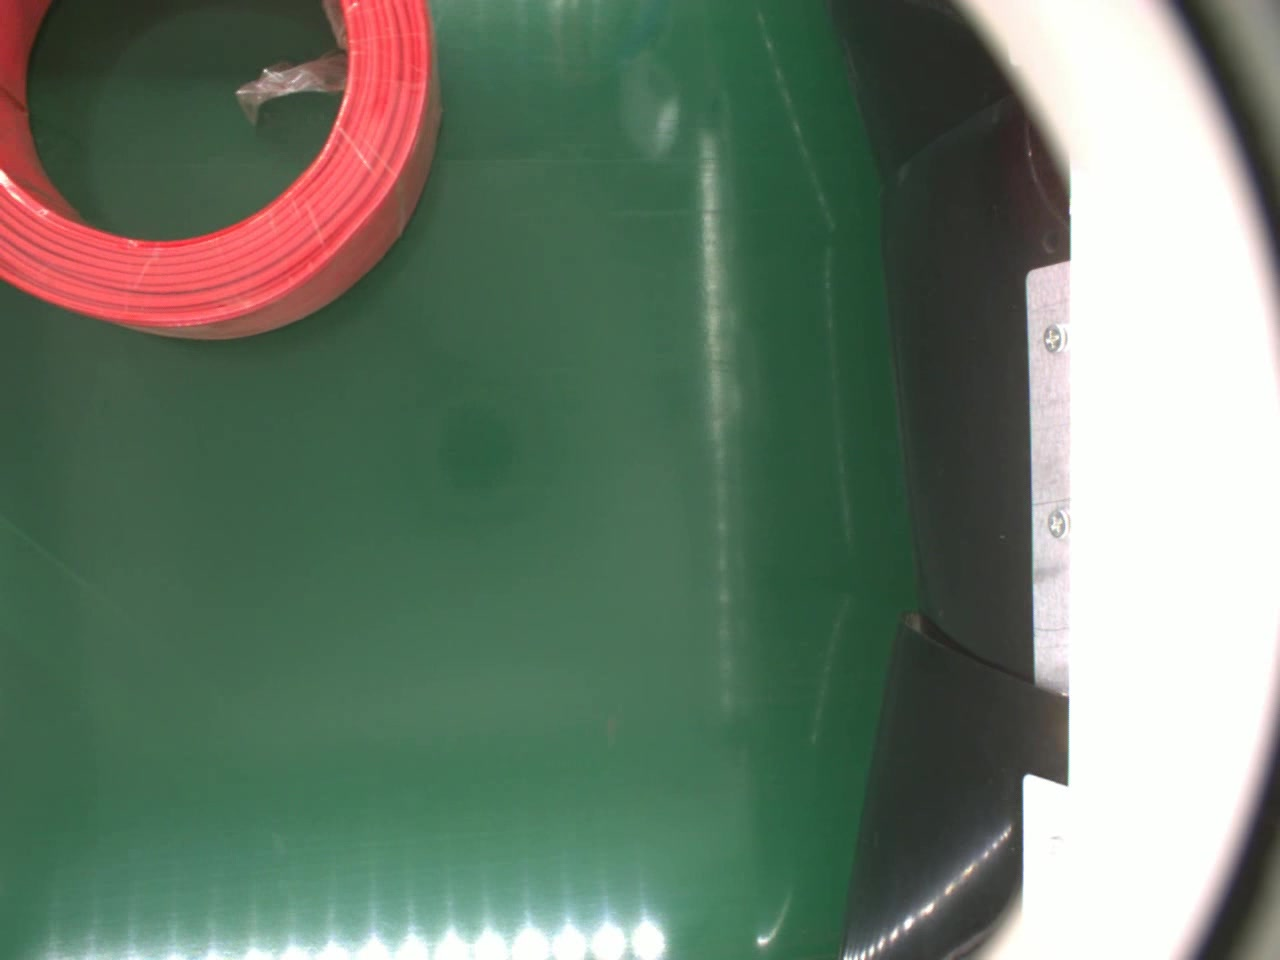red: (0, 1, 445, 345)
